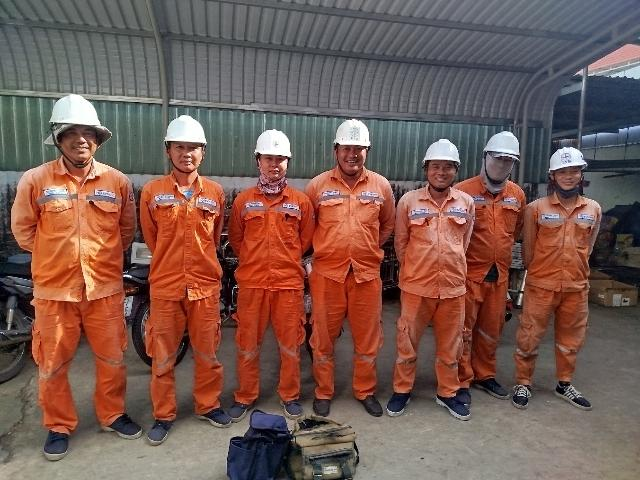helmet: (146, 111, 223, 160), (42, 91, 108, 138), (247, 120, 299, 165), (335, 110, 387, 154), (474, 124, 526, 164), (536, 142, 593, 178), (415, 133, 469, 169)
shoes: (36, 415, 76, 470), (542, 376, 595, 414), (141, 403, 177, 444), (102, 404, 141, 440), (434, 391, 473, 423), (222, 388, 258, 419), (354, 386, 387, 418), (474, 369, 511, 397), (266, 393, 309, 417), (384, 384, 413, 417), (186, 405, 235, 424), (507, 375, 536, 407), (308, 389, 331, 424), (453, 382, 476, 407)
